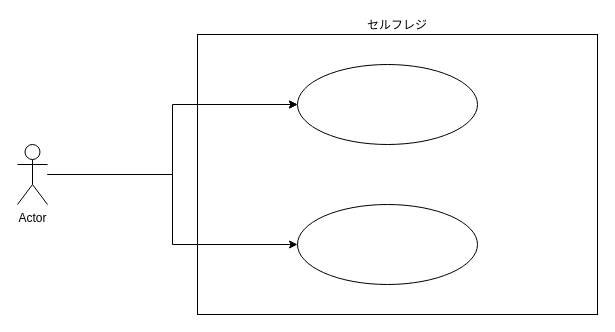
Some shapes in this 615 by 332 pixel diagram are drawn without their labels. Here are the shapes that lost their labels. From the top down, the box of each, then its label:
(296, 64, 478, 144): 商品を読み取る
(296, 204, 478, 284): 支払う
